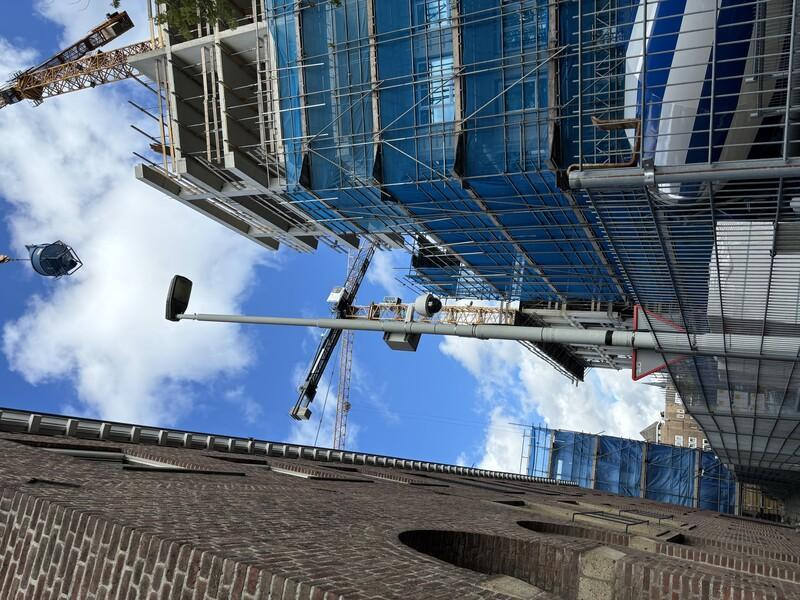dome: (283, 415, 307, 445)
